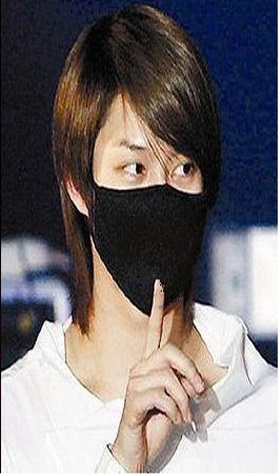face_mask: (95, 80, 204, 298)
